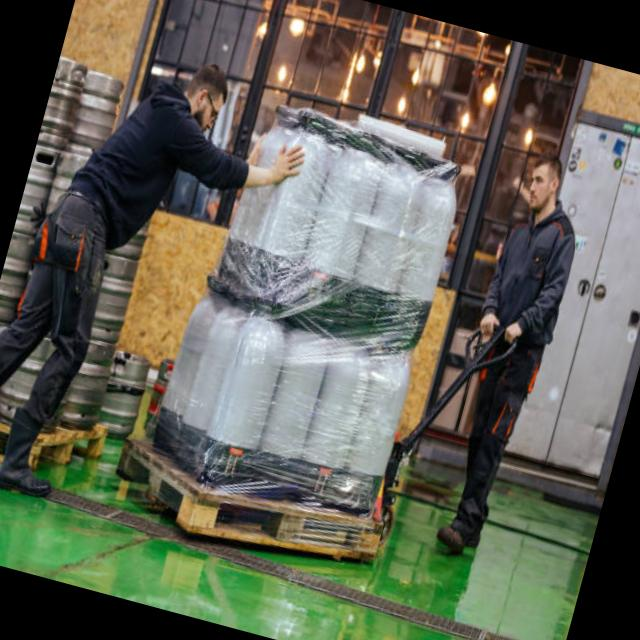Wooden-Pallets: (116, 436, 379, 555)
